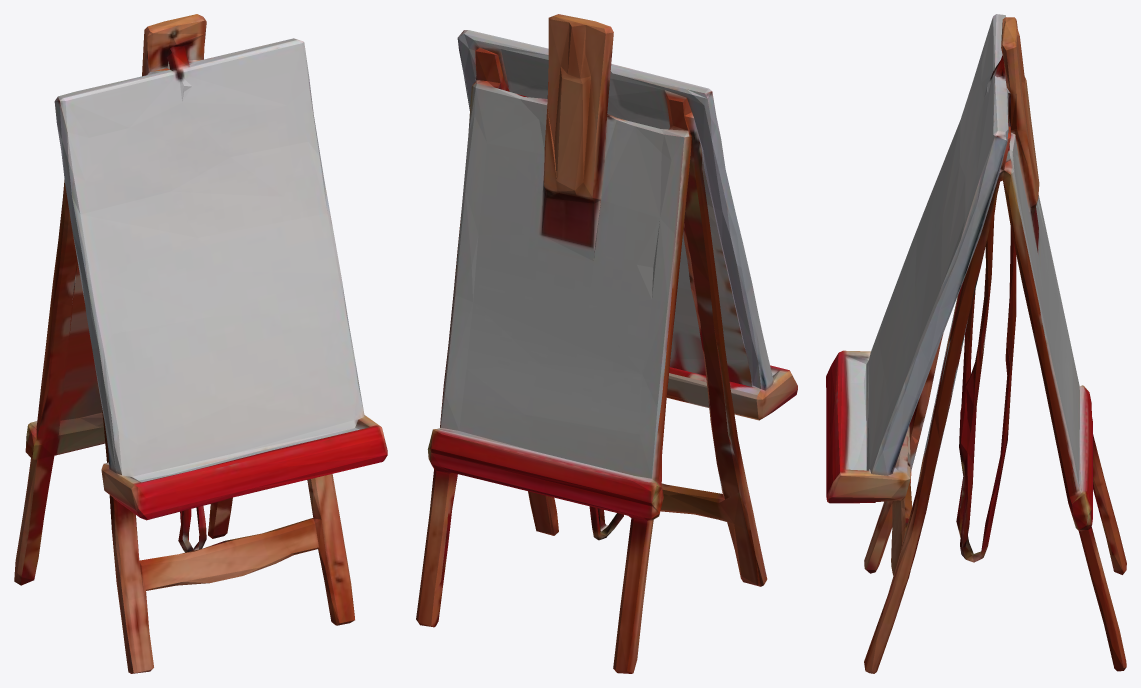
Rendered from poster_board.glb.
The picture shows the model from 3 angles, left to right: view 1: azimuth 30°, elevation 25°; view 2: azimuth 150°, elevation 25°; view 3: azimuth 270°, elevation 25°; orthographic projection. The views are drawn at different scales.
Parts seen in each view (by area): view 1: textured_mesh.obj; view 2: textured_mesh.obj; view 3: textured_mesh.obj.
Part boxes in pixels (bbox=[...]): textured_mesh.obj: bbox=[14, 14, 387, 673]; textured_mesh.obj: bbox=[416, 14, 797, 673]; textured_mesh.obj: bbox=[826, 14, 1126, 673].
Size of the model in its own units: 0.7288 by 1.6 by 0.7374.
Materials: 1 (1 with a texture image).
